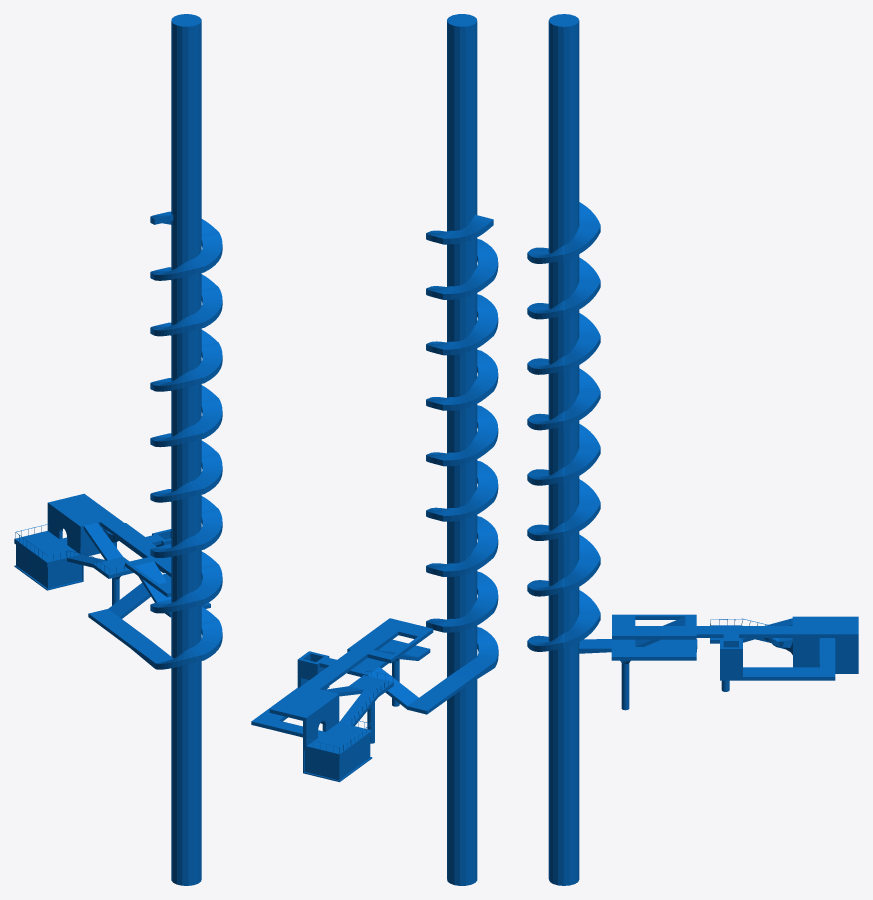
Rendered from Proto_SS_W1_V1.obj.
3 renders of one model, left to right at view 1: azimuth 30°, elevation 25°; view 2: azimuth 150°, elevation 25°; view 3: azimuth 270°, elevation 25°, orthographic.
Parts seen in each view (by area): view 1: LevelBase; view 2: LevelBase; view 3: LevelBase.
Boxes of the visible parts, <box> form: LevelBase: <box>14,14,222,885</box>; LevelBase: <box>251,14,498,885</box>; LevelBase: <box>527,14,858,885</box>.
Size of the model in its own units: 32.13 by 246 by 86.08.
